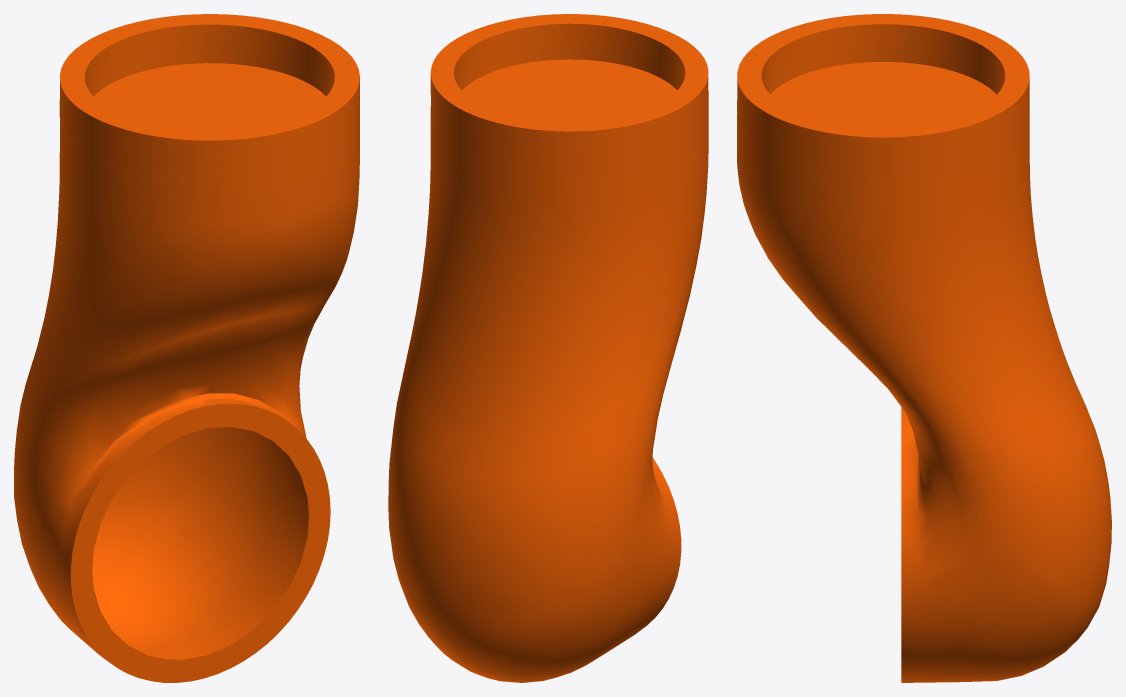
File: kuka-link2.obj
3 views of the same model, side by side, from view 1: azimuth 30°, elevation 25°; view 2: azimuth 150°, elevation 25°; view 3: azimuth 270°, elevation 25° (orthographic). The views are drawn at different scales.
Parts seen in each view (by area): view 1: LINK2_object.003; view 2: LINK2_object.003; view 3: LINK2_object.003.
Boxes of the visible parts, x1,y1,x2,y2 form: LINK2_object.003: [14, 14, 359, 682]; LINK2_object.003: [388, 14, 708, 682]; LINK2_object.003: [737, 14, 1111, 682].
Bounding box in the file's own units: 0.12 × 0.2686 × 0.1537.
